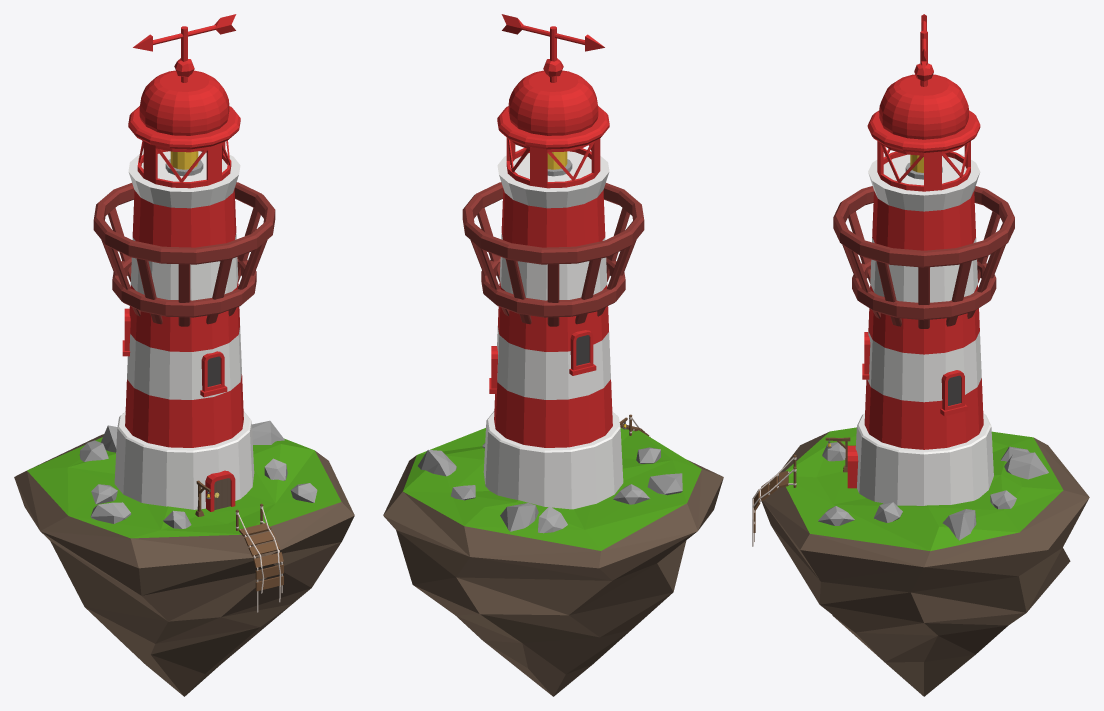
File: Island_7.fbx
The picture shows the model from 3 angles, left to right: view 1: azimuth 30°, elevation 25°; view 2: azimuth 150°, elevation 25°; view 3: azimuth 270°, elevation 25°; orthographic projection.
Parts seen in each view (by area): view 1: Island_7_Lighthouse, Island_7_Base, Island_7, Island_7_Bridge; view 2: Island_7_Lighthouse, Island_7_Base, Island_7; view 3: Island_7_Lighthouse, Island_7_Base, Island_7, Island_7_Bridge.
Part boxes in pixels (x1=…): Island_7_Lighthouse: x1=93, y1=14, x2=275, y2=511; Island_7_Base: x1=14, y1=434, x2=354, y2=696; Island_7: x1=79, y1=420, x2=317, y2=528; Island_7_Bridge: x1=235, y1=503, x2=283, y2=612; Island_7_Lighthouse: x1=462, y1=14, x2=644, y2=509; Island_7_Base: x1=383, y1=428, x2=723, y2=696; Island_7: x1=418, y1=443, x2=682, y2=533; Island_7_Lighthouse: x1=833, y1=14, x2=1014, y2=505; Island_7_Base: x1=760, y1=427, x2=1089, y2=696; Island_7: x1=818, y1=442, x2=1048, y2=540; Island_7_Bridge: x1=752, y1=454, x2=796, y2=546.
Size of the model in its own units: 2099 by 2139 by 4657.
